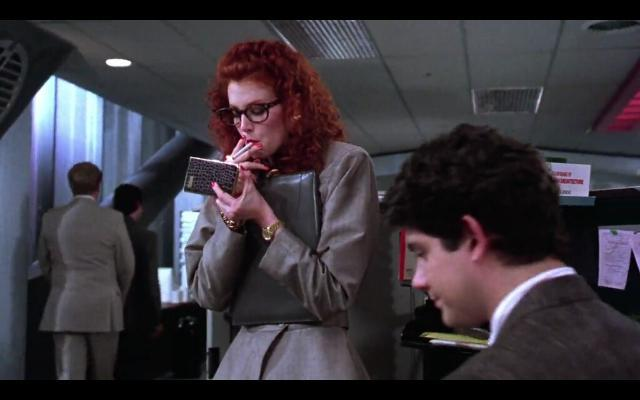SafeDriving: (246, 100, 274, 118)
Smoking: (228, 141, 254, 161)
